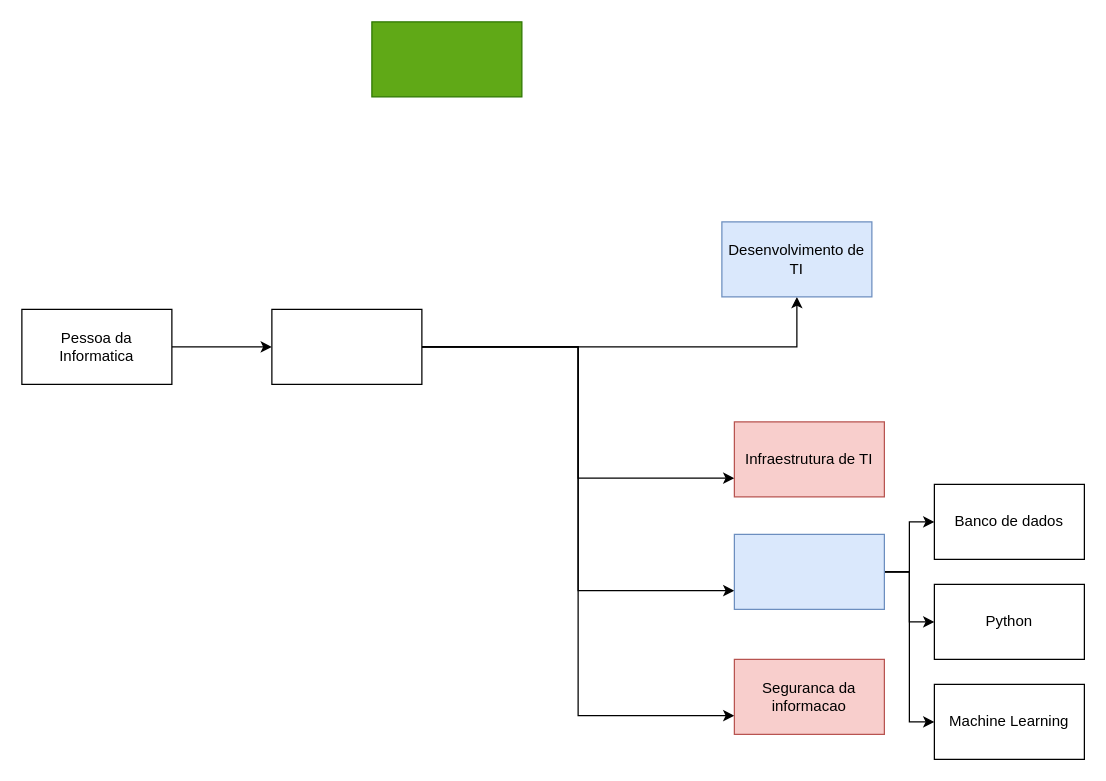
Some shapes in this 1106 by 781 pixel diagram are drawn without their labels. The shapes that lost their labels are listed below. From the top down, each one's centre as x and y in pixels, then its label:
pixel 446 59: Contexto Areas de TI
pixel 346 346: Profissional de TI
pixel 808 571: Analise de dados
